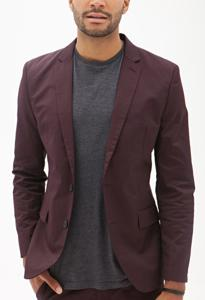F_M_suit jacket: (7, 39, 197, 280)
